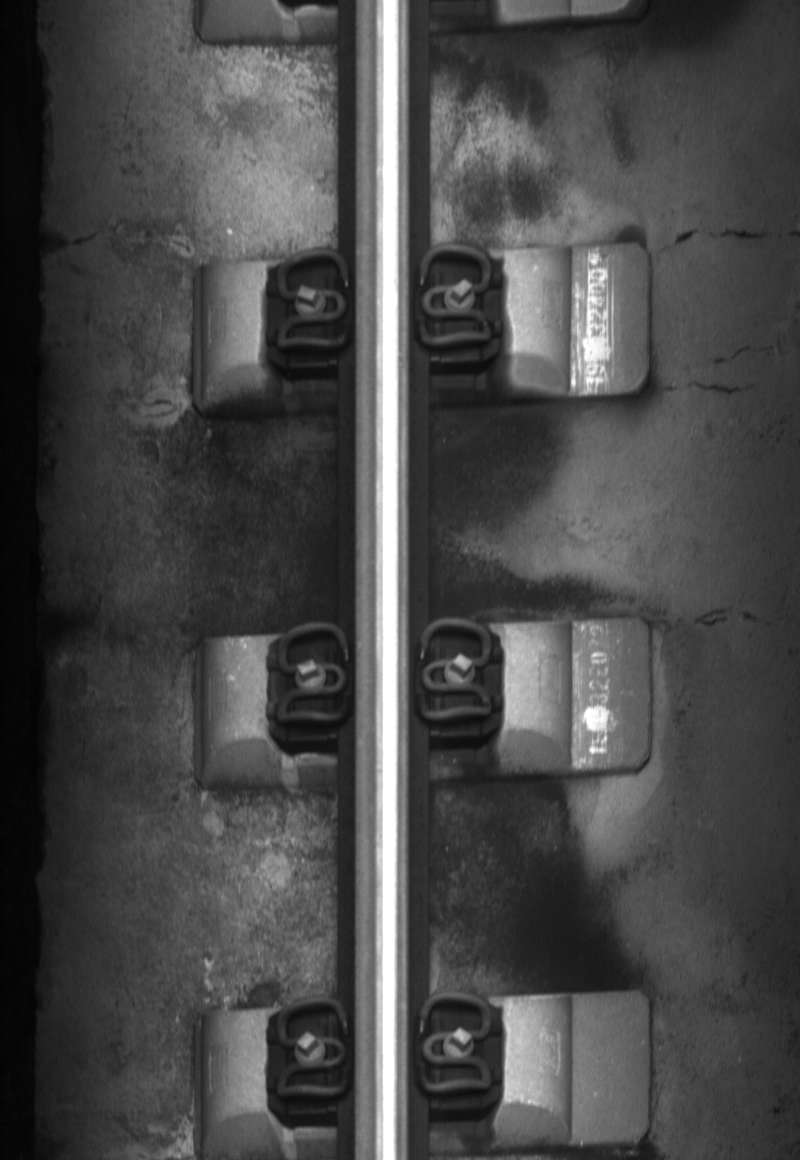l_faster: (270, 243, 354, 364), (272, 615, 355, 735), (269, 991, 353, 1108)
r_faster: (412, 985, 496, 1102), (412, 615, 498, 728), (414, 241, 498, 354)
